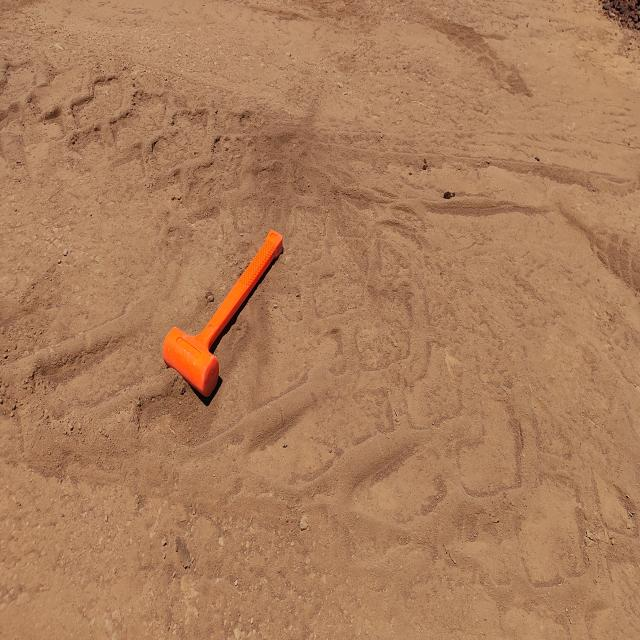Orange_hammer: (162, 228, 284, 398)
